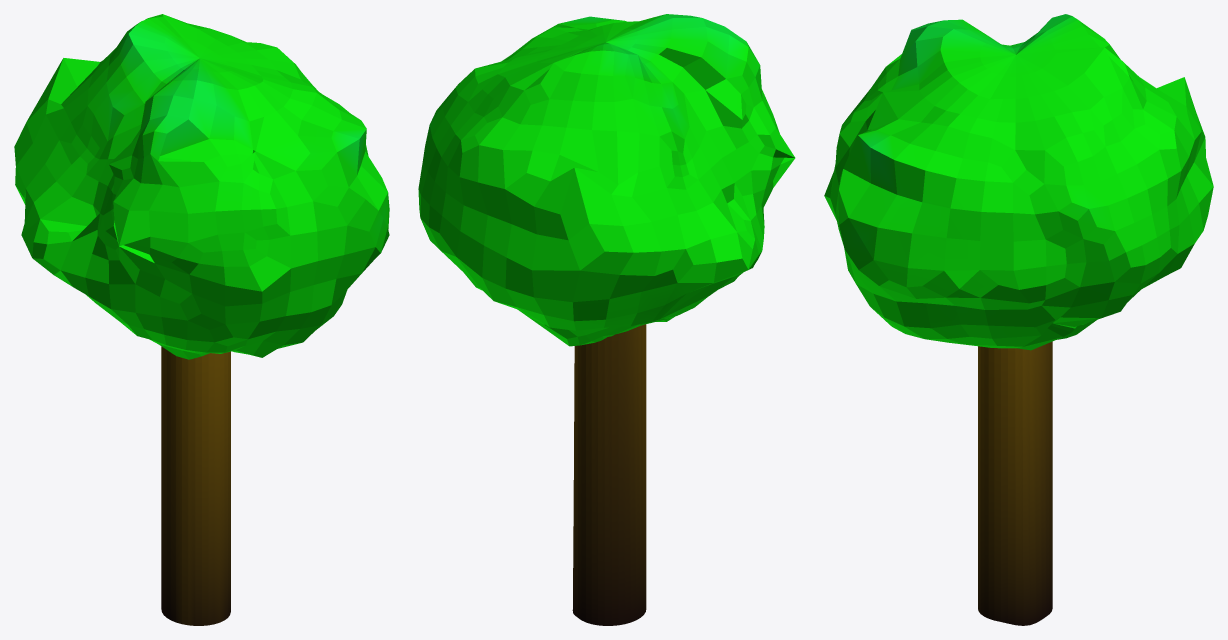
Rendered from Tree.fbx.
3 renders of one model, left to right at view 1: azimuth 30°, elevation 25°; view 2: azimuth 150°, elevation 25°; view 3: azimuth 270°, elevation 25°, orthographic. The views are drawn at different scales.
Visible parts, largest first — view 1: Sphere, Cylinder; view 2: Sphere, Cylinder; view 3: Sphere, Cylinder.
Part boxes in pixels (<box>): Sphere: <box>14,14,389,359</box>; Cylinder: <box>161,346,230,625</box>; Sphere: <box>418,14,795,346</box>; Cylinder: <box>572,324,646,625</box>; Sphere: <box>824,14,1213,350</box>; Cylinder: <box>978,341,1052,625</box>.
Size of the model in its own units: 519 by 945 by 576.
